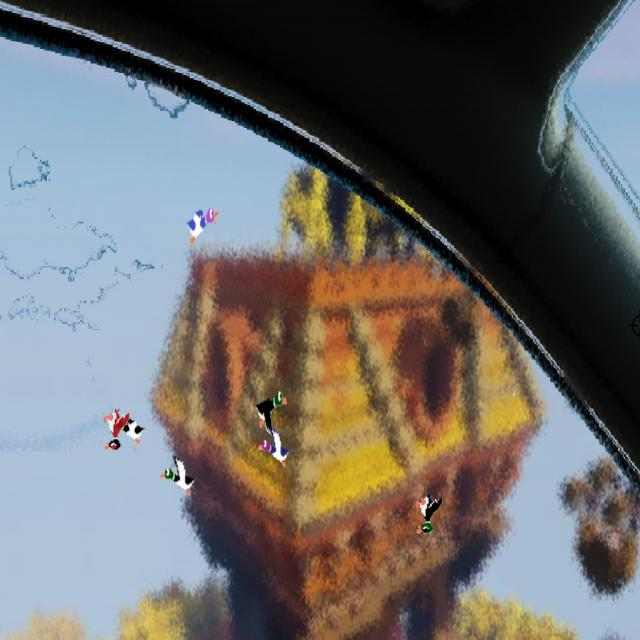duck: (159, 450, 199, 506), (250, 381, 292, 434), (255, 428, 292, 476), (182, 202, 220, 248), (121, 410, 147, 450)
falling_duck: (412, 486, 446, 542), (102, 404, 126, 457)
